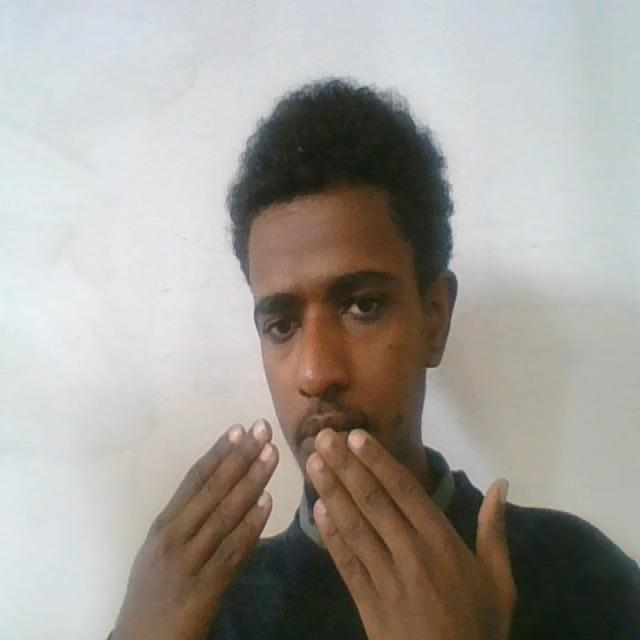thanks: (104, 409, 545, 640)
